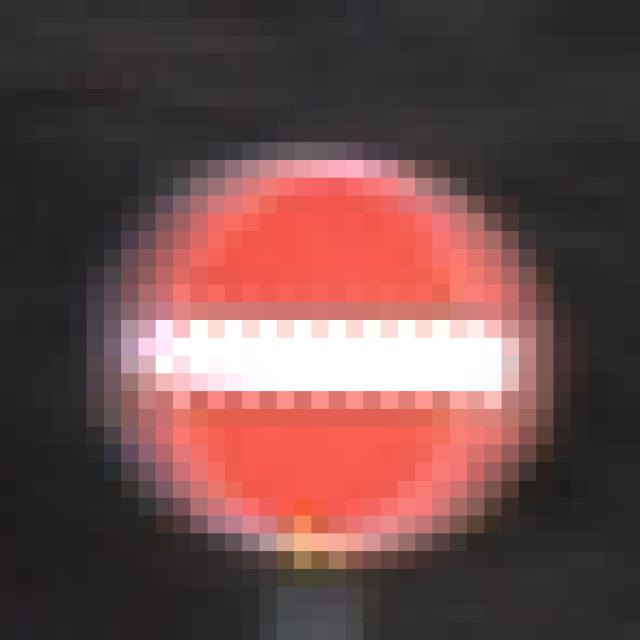No Entry: (88, 108, 555, 552)
